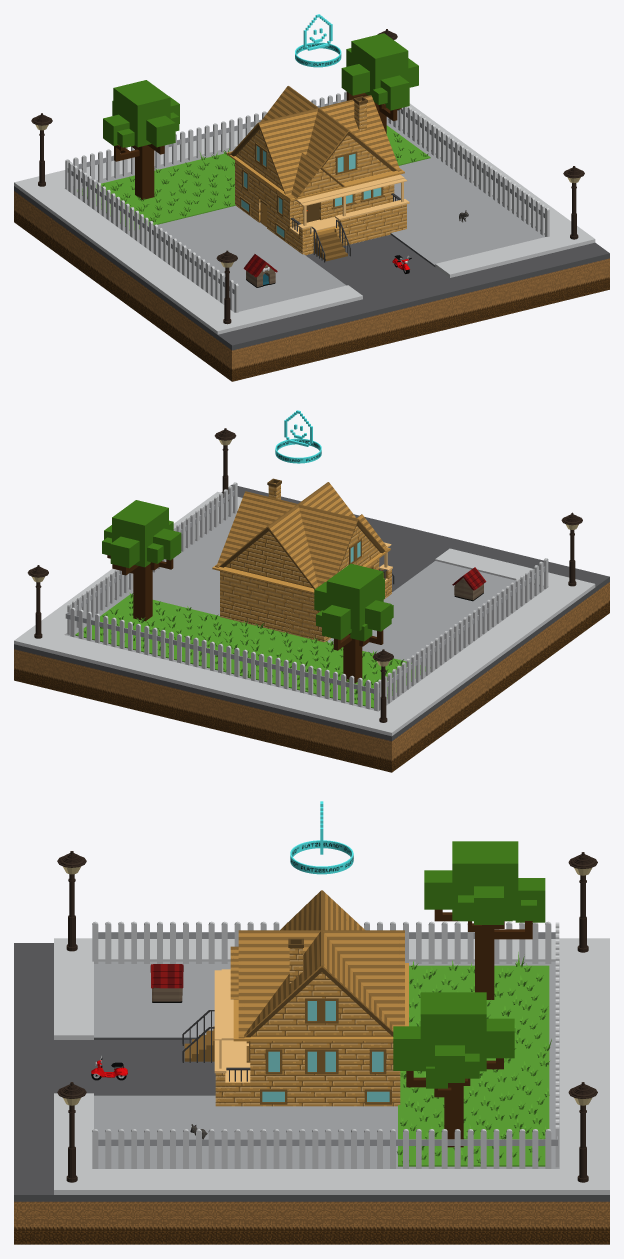
3 renders of one model, top to bottom at view 1: azimuth 30°, elevation 25°; view 2: azimuth 150°, elevation 25°; view 3: azimuth 270°, elevation 25°, orthographic. The views are drawn at different scales.
Parts seen in each view (by area): view 1: Cube.004, Cube.508, TYPE_PREMIUM, OBJRANDOM_DOGHOUSE; view 2: Cube.004, Cube.508, TYPE_PREMIUM, OBJRANDOM_DOGHOUSE; view 3: Cube.004, Cube.508, TYPE_PREMIUM, OBJRANDOM_DOGHOUSE.
Boxes of the visible parts, x1=… form: Cube.004: x1=14, y1=29, x2=609, y2=381; Cube.508: x1=226, y1=86, x2=409, y2=262; TYPE_PREMIUM: x1=295, y1=14, x2=341, y2=67; OBJRANDOM_DOGHOUSE: x1=243, y1=254, x2=277, y2=287; Cube.004: x1=14, y1=428, x2=609, y2=772; Cube.508: x1=212, y1=478, x2=394, y2=642; TYPE_PREMIUM: x1=275, y1=410, x2=321, y2=463; OBJRANDOM_DOGHOUSE: x1=452, y1=567, x2=486, y2=601; Cube.004: x1=14, y1=841, x2=609, y2=1244; Cube.508: x1=182, y1=890, x2=408, y2=1106; TYPE_PREMIUM: x1=290, y1=801, x2=353, y2=874; OBJRANDOM_DOGHOUSE: x1=150, y1=964, x2=183, y2=1002.
Bounding box in the file's own units: 4000 × 2489 × 4000.
Materials: 40 (6 with a texture image).
